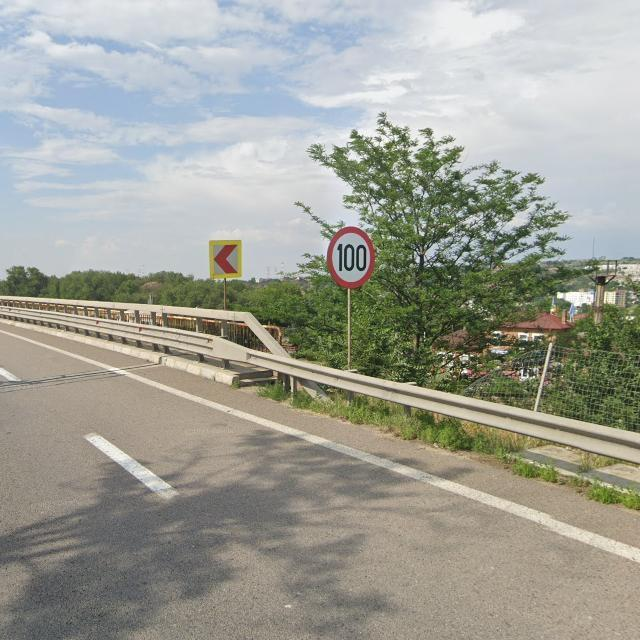forb_speed_over_100: (327, 224, 375, 289)
